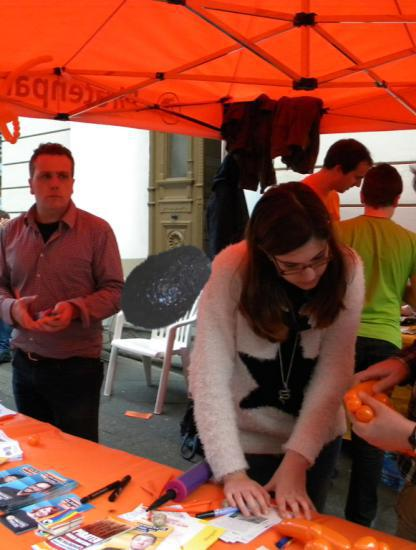Avocado: (114, 233, 218, 337)
